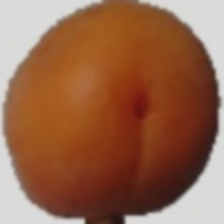apricot: (61, 34, 207, 212)
